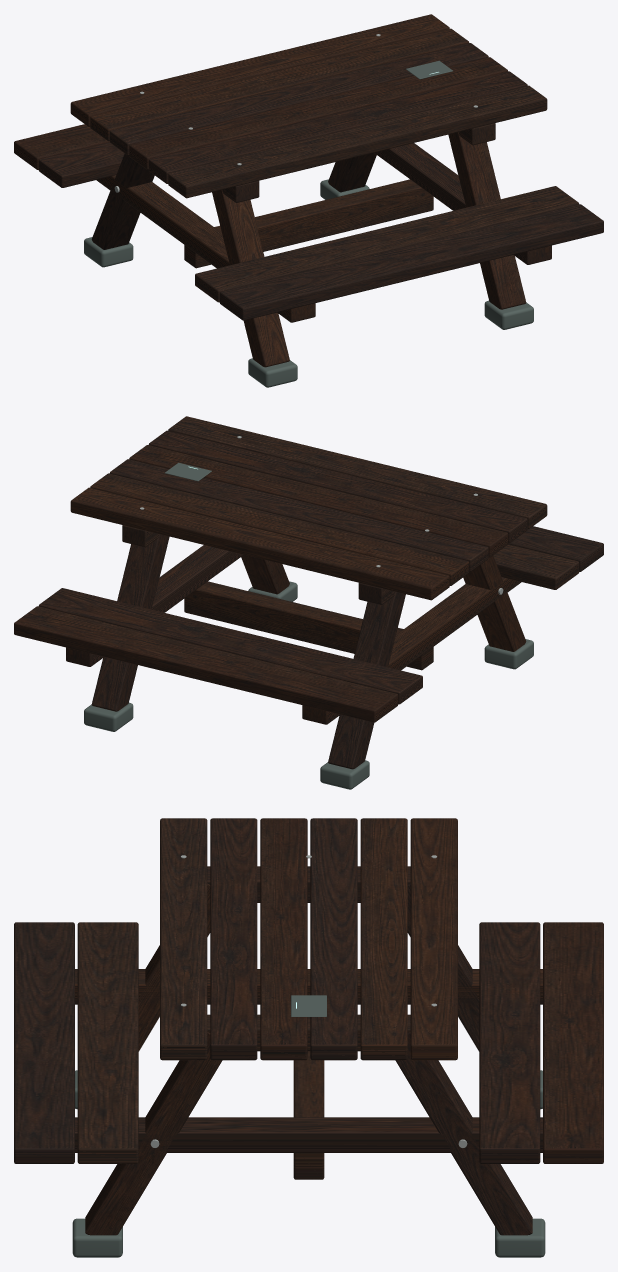
File: midori_picnic_table_2046.glb
3 renders of one model, top to bottom at view 1: azimuth 30°, elevation 25°; view 2: azimuth 150°, elevation 25°; view 3: azimuth 270°, elevation 25°, orthographic. The views are drawn at different scales.
Visible parts, largest first — view 1: Bench_-1_slat_-1, Tabletop_slatted_timber_00, Bench_-1_slat_1, Tabletop_slatted_timber_01, Tabletop_slatted_timber_04, Tabletop_slatted_timber_05, Tabletop_slatted_timber_02, Tabletop_slatted_timber_03, Longitudinal_timber_brace, Timber_seat_crossrail, Splayed_timber_leg.002, Splayed_timber_leg (+11 smaller); view 2: Bench_1_slat_1, Tabletop_slatted_timber_05, Bench_1_slat_-1, Tabletop_slatted_timber_04, Tabletop_slatted_timber_01, Tabletop_slatted_timber_00, Tabletop_slatted_timber_03, Tabletop_slatted_timber_02, Longitudinal_timber_brace, Timber_seat_crossrail, Splayed_timber_leg.003, Splayed_timber_leg.001 (+11 smaller); view 3: Bench_1_slat_-1, Bench_-1_slat_1, Bench_1_slat_1, Bench_-1_slat_-1, Tabletop_slatted_timber_01, Tabletop_slatted_timber_04, Tabletop_slatted_timber_00, Tabletop_slatted_timber_05, Tabletop_slatted_timber_02, Tabletop_slatted_timber_03, Timber_seat_crossrail.001, Splayed_timber_leg.003 (+10 smaller).
Part boxes in pixels (box(x1,y1,x2,y2)): Bench_-1_slat_-1: box(219, 204, 603, 320); Tabletop_slatted_timber_00: box(168, 85, 547, 198); Bench_-1_slat_1: box(195, 186, 578, 302); Tabletop_slatted_timber_01: box(148, 71, 527, 183); Tabletop_slatted_timber_04: box(90, 28, 469, 141); Tabletop_slatted_timber_05: box(70, 14, 449, 126); Tabletop_slatted_timber_02: box(129, 57, 508, 169); Tabletop_slatted_timber_03: box(109, 43, 488, 155); Longitudinal_timber_brace: box(184, 179, 433, 268); Timber_seat_crossrail: box(96, 175, 315, 322); Splayed_timber_leg.002: box(448, 132, 526, 309); Splayed_timber_leg: box(212, 190, 289, 367); Bench_1_slat_1: box(14, 606, 398, 722); Tabletop_slatted_timber_05: box(70, 487, 449, 600); Bench_1_slat_-1: box(39, 588, 422, 704); Tabletop_slatted_timber_04: box(90, 473, 469, 585); Tabletop_slatted_timber_01: box(148, 430, 527, 543); Tabletop_slatted_timber_00: box(168, 416, 547, 528); Tabletop_slatted_timber_03: box(109, 459, 488, 571); Tabletop_slatted_timber_02: box(129, 445, 508, 557); Longitudinal_timber_brace: box(184, 581, 433, 670); Timber_seat_crossrail: box(302, 577, 521, 724); Splayed_timber_leg.003: box(91, 534, 169, 711); Splayed_timber_leg.001: box(328, 592, 405, 769); Bench_1_slat_-1: box(479, 922, 540, 1163); Bench_-1_slat_1: box(77, 922, 138, 1163); Bench_1_slat_1: box(543, 922, 603, 1163); Bench_-1_slat_-1: box(14, 922, 74, 1163); Tabletop_slatted_timber_01: box(210, 818, 257, 1060); Tabletop_slatted_timber_04: box(360, 818, 407, 1060); Tabletop_slatted_timber_00: box(160, 818, 207, 1060); Tabletop_slatted_timber_05: box(410, 818, 457, 1060); Tabletop_slatted_timber_02: box(260, 818, 307, 1060); Tabletop_slatted_timber_03: box(310, 818, 357, 1060); Timber_seat_crossrail.001: box(75, 1117, 542, 1152); Splayed_timber_leg.003: box(395, 1032, 532, 1235).
Size of the model in its own units: 1.5 by 0.7545 by 1.65.
4 materials, 1 textured.
